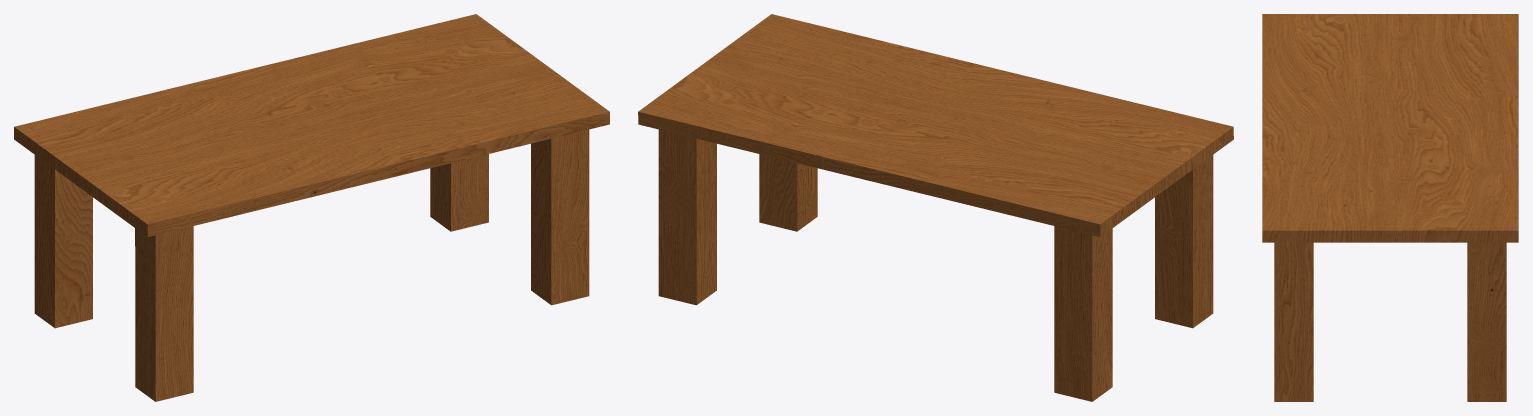
The model's file is table_wood.glb.
The picture shows the model from 3 angles, left to right: view 1: azimuth 30°, elevation 25°; view 2: azimuth 150°, elevation 25°; view 3: azimuth 270°, elevation 25°; orthographic projection. The views are drawn at different scales.
Parts seen in each view (by area): view 1: Wood; view 2: Wood; view 3: Wood.
Boxes of the visible parts, <box> form: Wood: <box>14,14,609,401</box>; Wood: <box>638,14,1233,401</box>; Wood: <box>1262,14,1518,401</box>.
Size of the model in its own units: 2 by 0.7672 by 1.
1 material, 1 textured.
